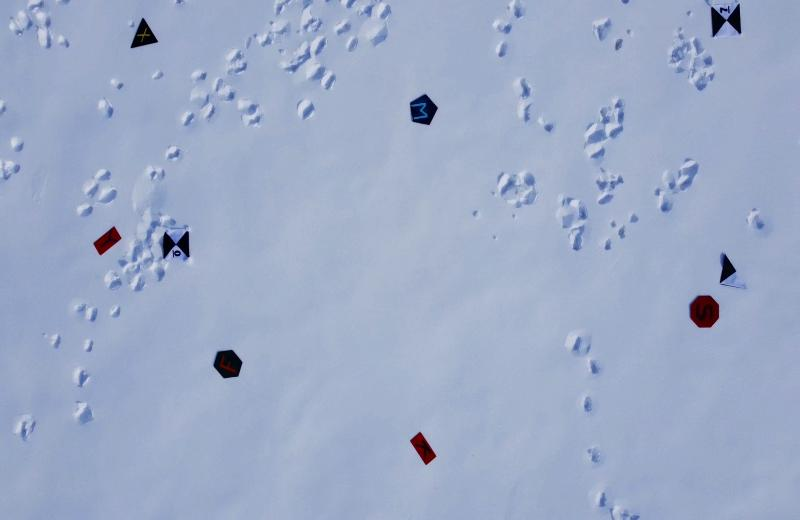Hexagon: (210, 342, 246, 385)
Octagon: (685, 291, 724, 333)
Pentagon: (402, 90, 440, 130)
Rectangle: (408, 426, 439, 473), (90, 222, 124, 258)
Triangle: (125, 13, 160, 51)
